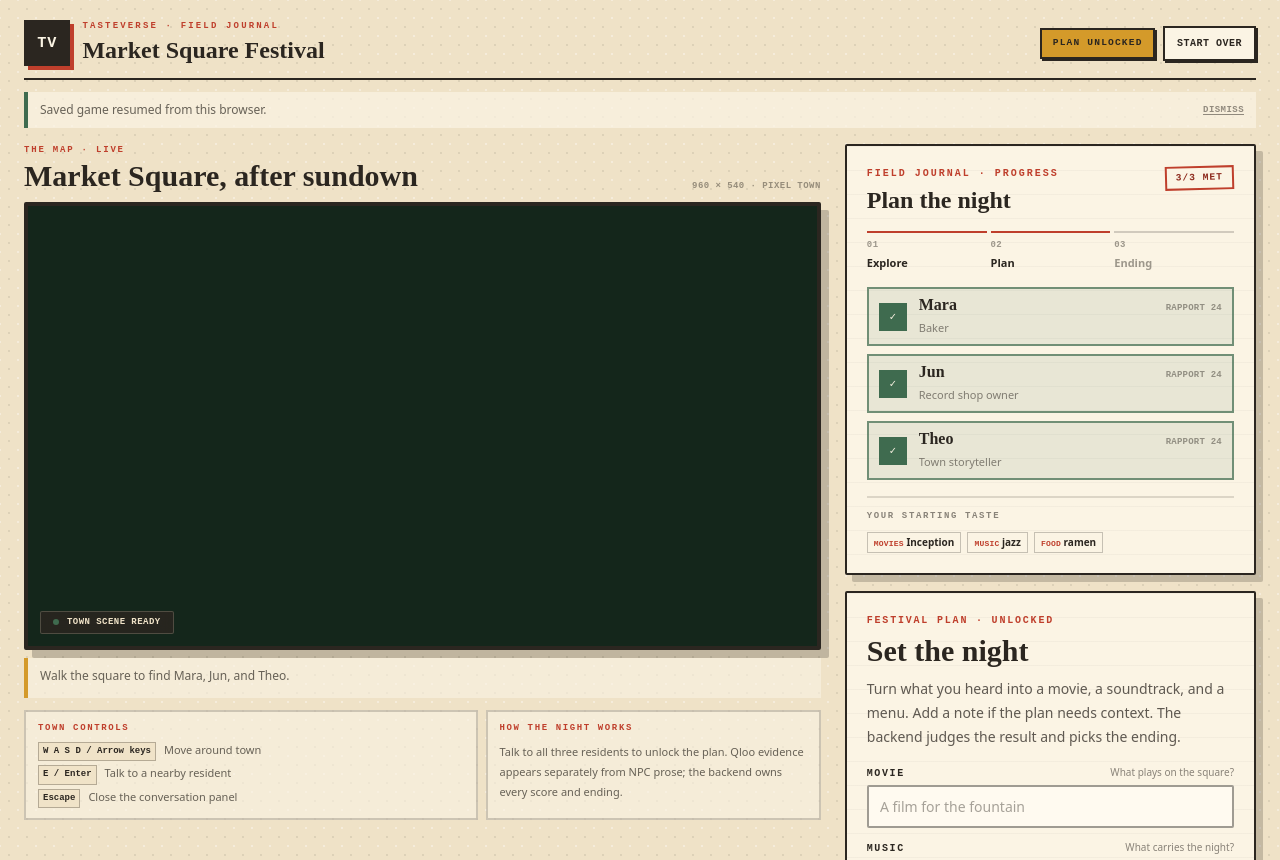
plan evaluation and endings › submits the plan and renders the backend Cultural Chaos ending
The width and height of the screenshot is (1280, 860).
Type "Inception" into the field labelled "Movie What plays on the square?" at (1050, 807), box [867, 785, 1234, 828]
(page scrolled)
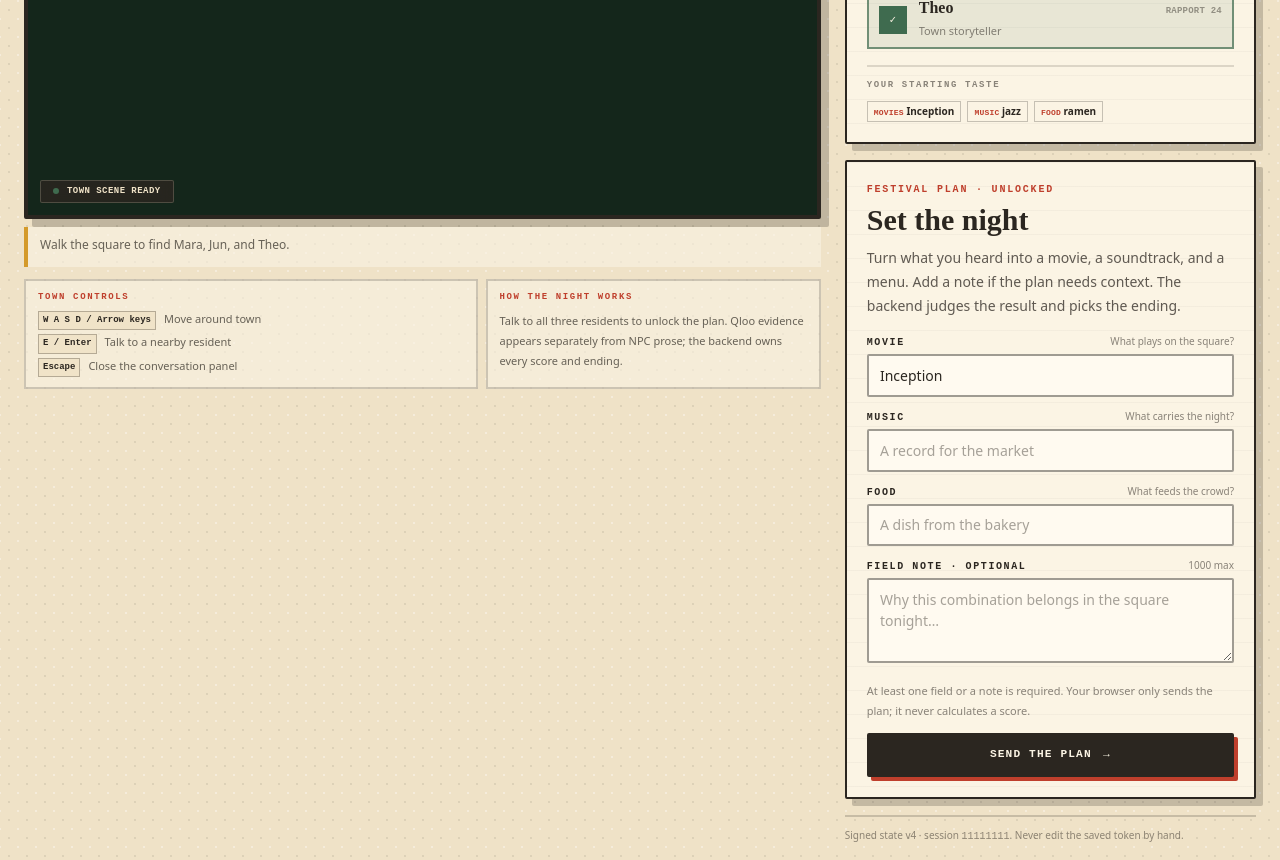
Type "jazz" into the field labelled "Music What carries the night?" at (1050, 450), box [867, 429, 1234, 472]
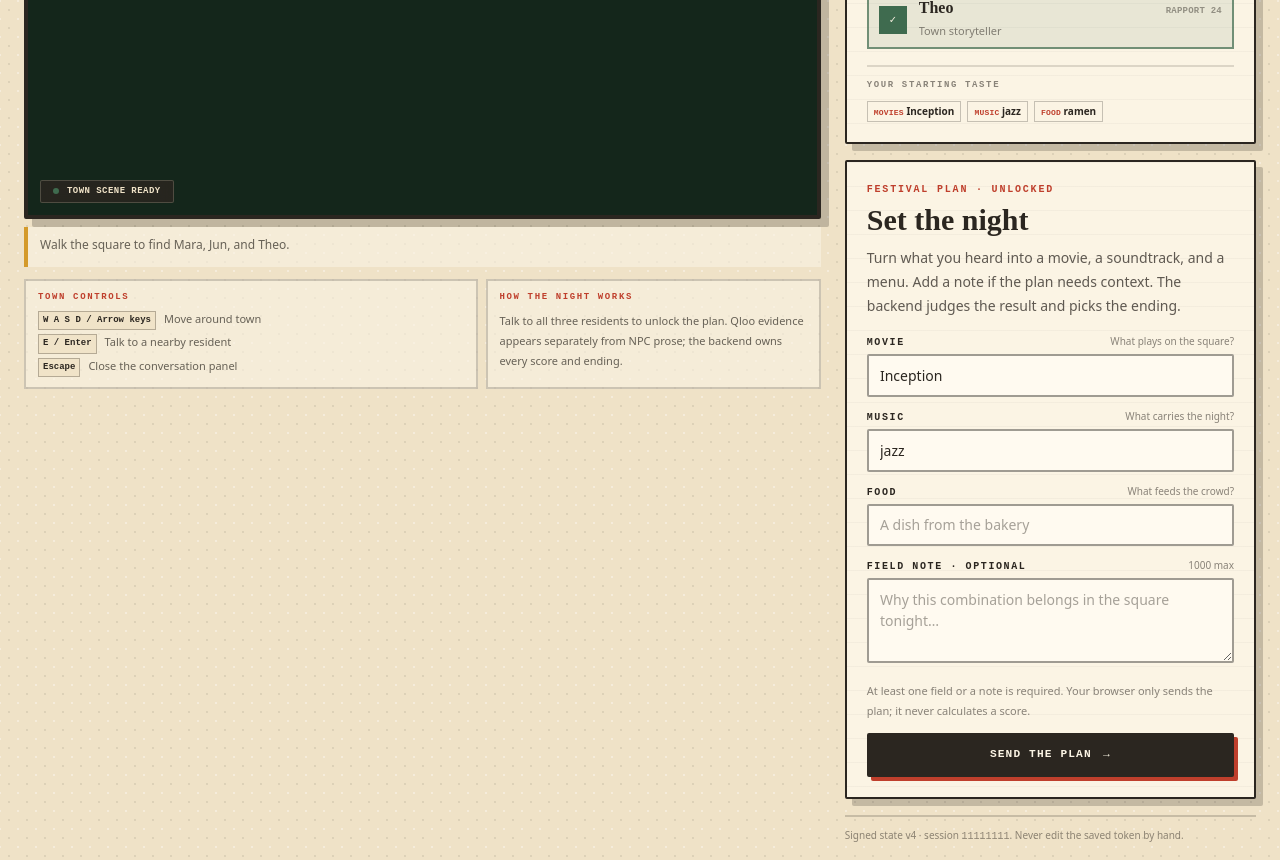
Type "ramen" into the field labelled "Food What feeds the crowd?" at (1050, 525), box [867, 504, 1234, 546]
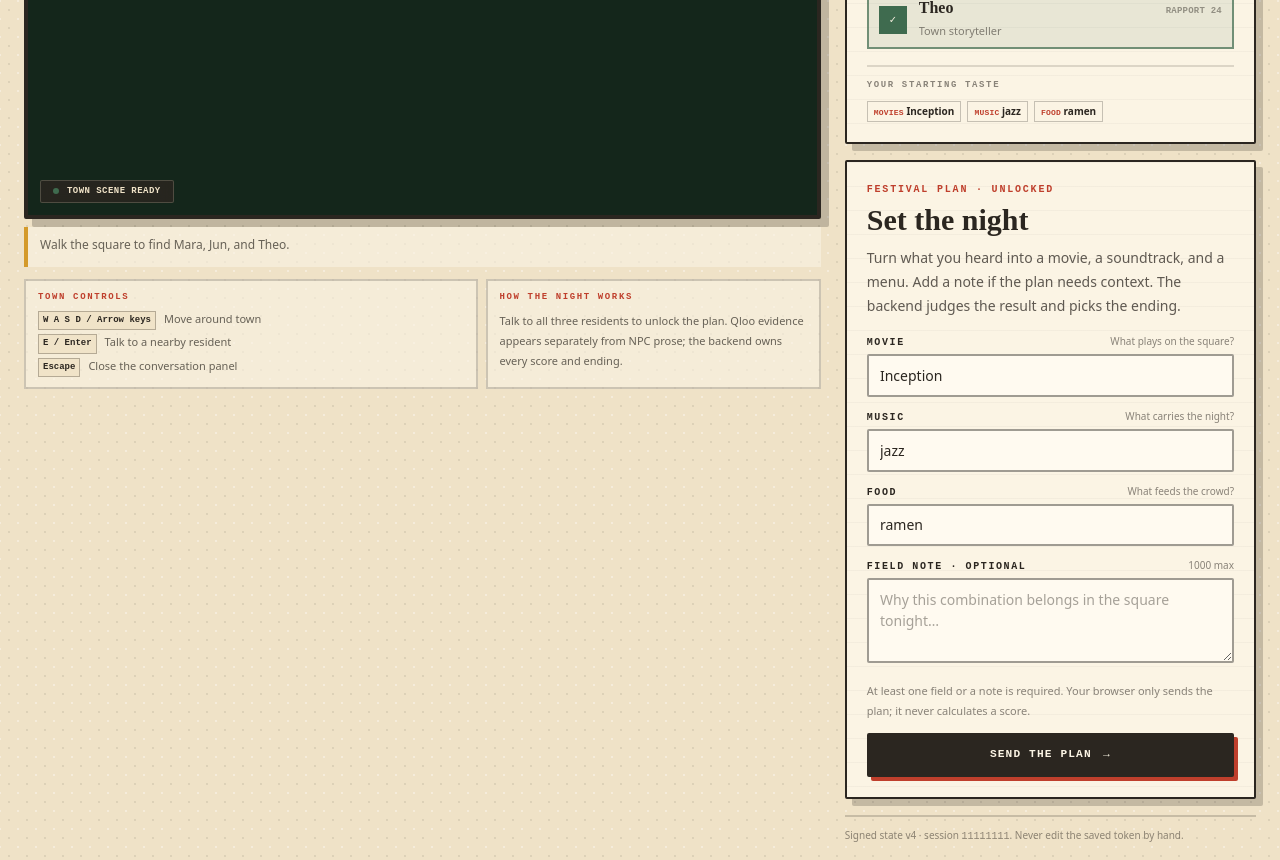
Click the button "Send the plan →" at (1050, 755), box [867, 733, 1234, 777]
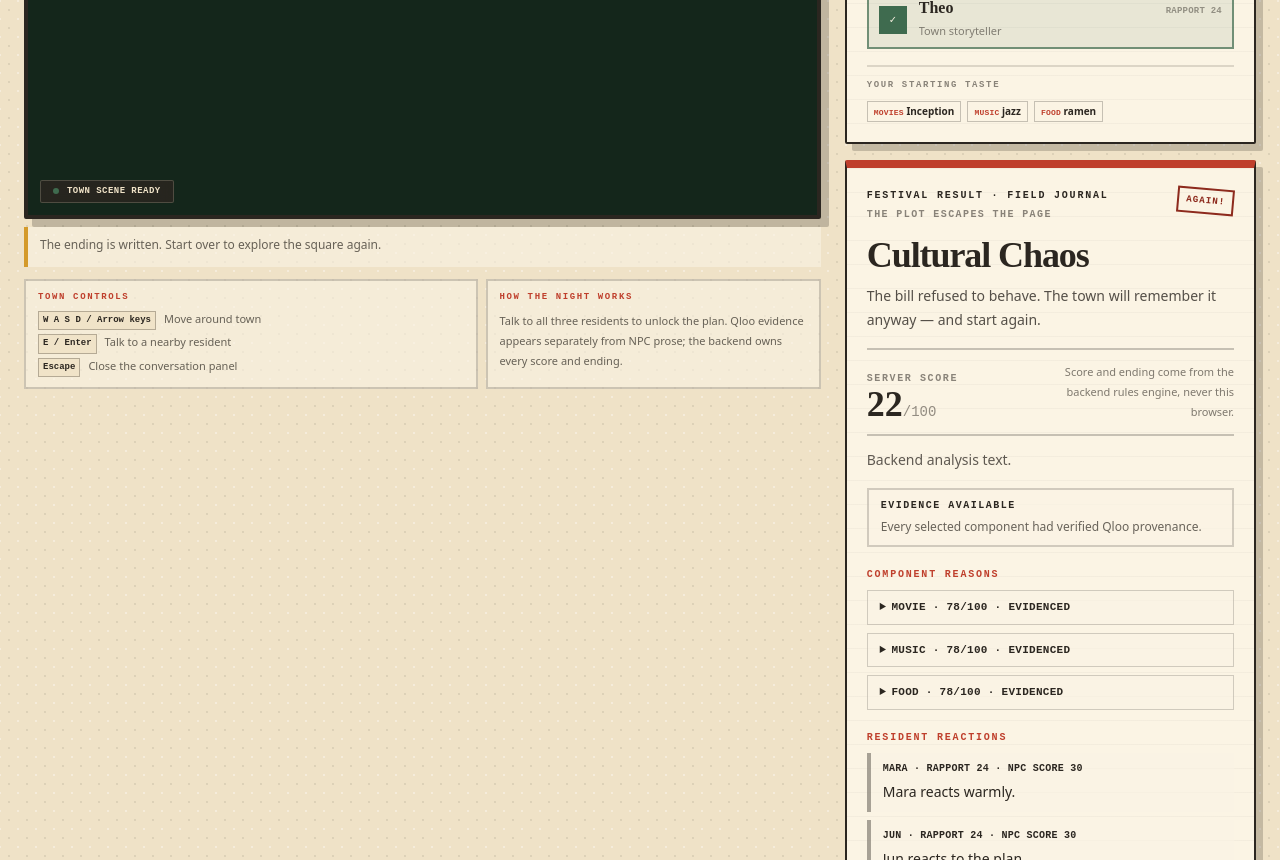
expect the heading "Cultural Chaos" is shown: met, box [867, 235, 1089, 275]
expect the text "Evidence available" is shown: met, box [881, 500, 1016, 511]
expect the text "Backend analysis text." is shown: met, box [867, 450, 1011, 469]
